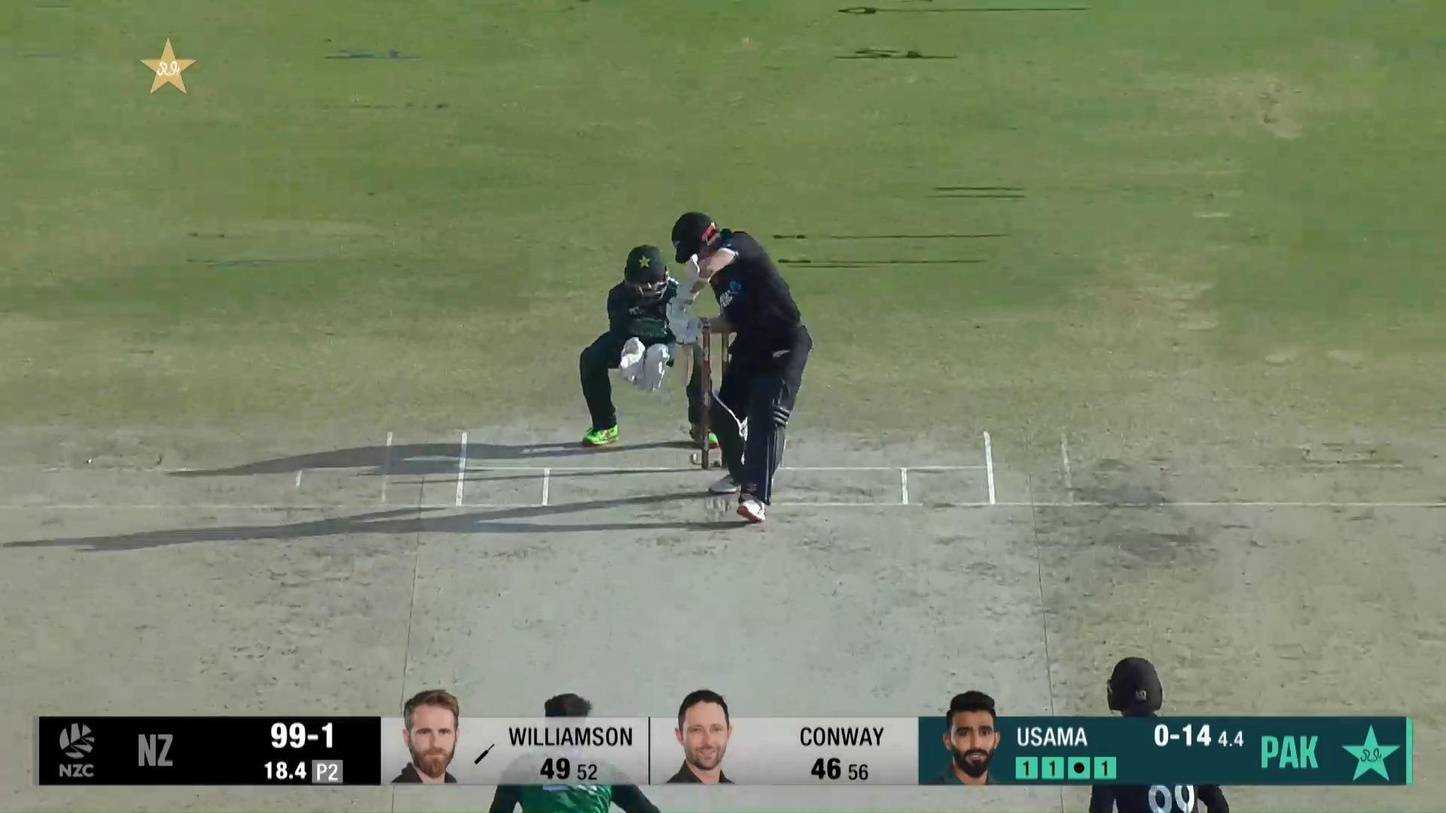BM 1: (667, 211, 813, 523)
BO: (490, 691, 661, 813)
